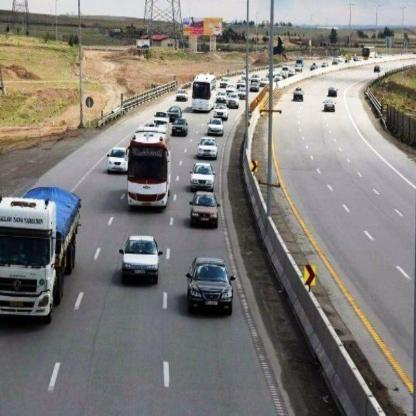Bus: (121, 128, 176, 211), (188, 73, 216, 114), (364, 47, 376, 59)
Car: (184, 252, 234, 320), (117, 229, 167, 286), (190, 194, 224, 229), (189, 161, 214, 192), (107, 146, 131, 173), (204, 118, 229, 135), (198, 134, 216, 154), (170, 121, 190, 138), (328, 82, 342, 100), (167, 105, 181, 121), (322, 98, 338, 110), (214, 106, 229, 117), (252, 79, 265, 91), (374, 63, 386, 76), (230, 95, 242, 107), (216, 89, 227, 100), (293, 87, 301, 101), (238, 77, 249, 86), (294, 64, 303, 74), (319, 62, 330, 70), (230, 88, 238, 96), (330, 60, 340, 66), (274, 75, 282, 82), (288, 70, 294, 76)
Truck: (0, 179, 90, 322)
